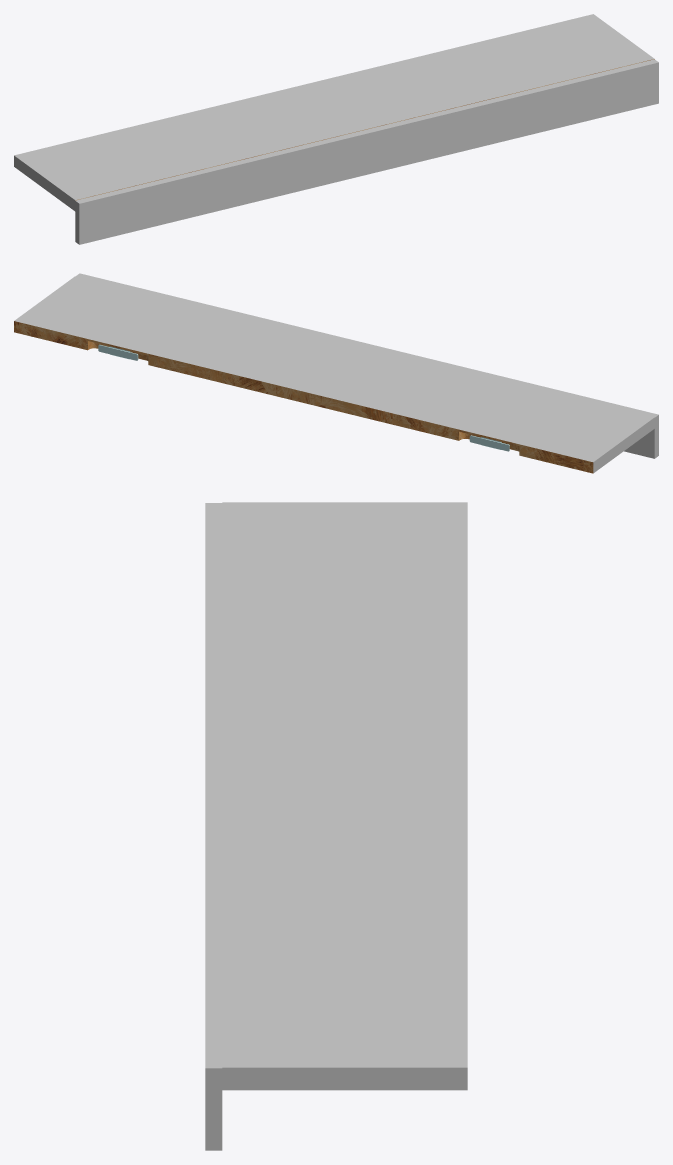
File: wallshelf.gltf
3 views of the same model, one above another, from view 1: azimuth 30°, elevation 25°; view 2: azimuth 150°, elevation 25°; view 3: azimuth 270°, elevation 25° (orthographic). The views are drawn at different scales.
Parts seen in each view (by area): view 1: #SHL0004_Wood_Gray_L_Wall_0; view 2: #SHL0004_Wood_Gray_L_Wall_0; view 3: #SHL0004_Wood_Gray_L_Wall_0.
Part boxes in pixels (left/top/right/bottom): #SHL0004_Wood_Gray_L_Wall_0: left=14, top=14, right=658, bottom=244; #SHL0004_Wood_Gray_L_Wall_0: left=14, top=273, right=658, bottom=473; #SHL0004_Wood_Gray_L_Wall_0: left=205, top=502, right=467, bottom=1150.
Size of the model in its own units: 6 by 0.4101 by 1.18.
